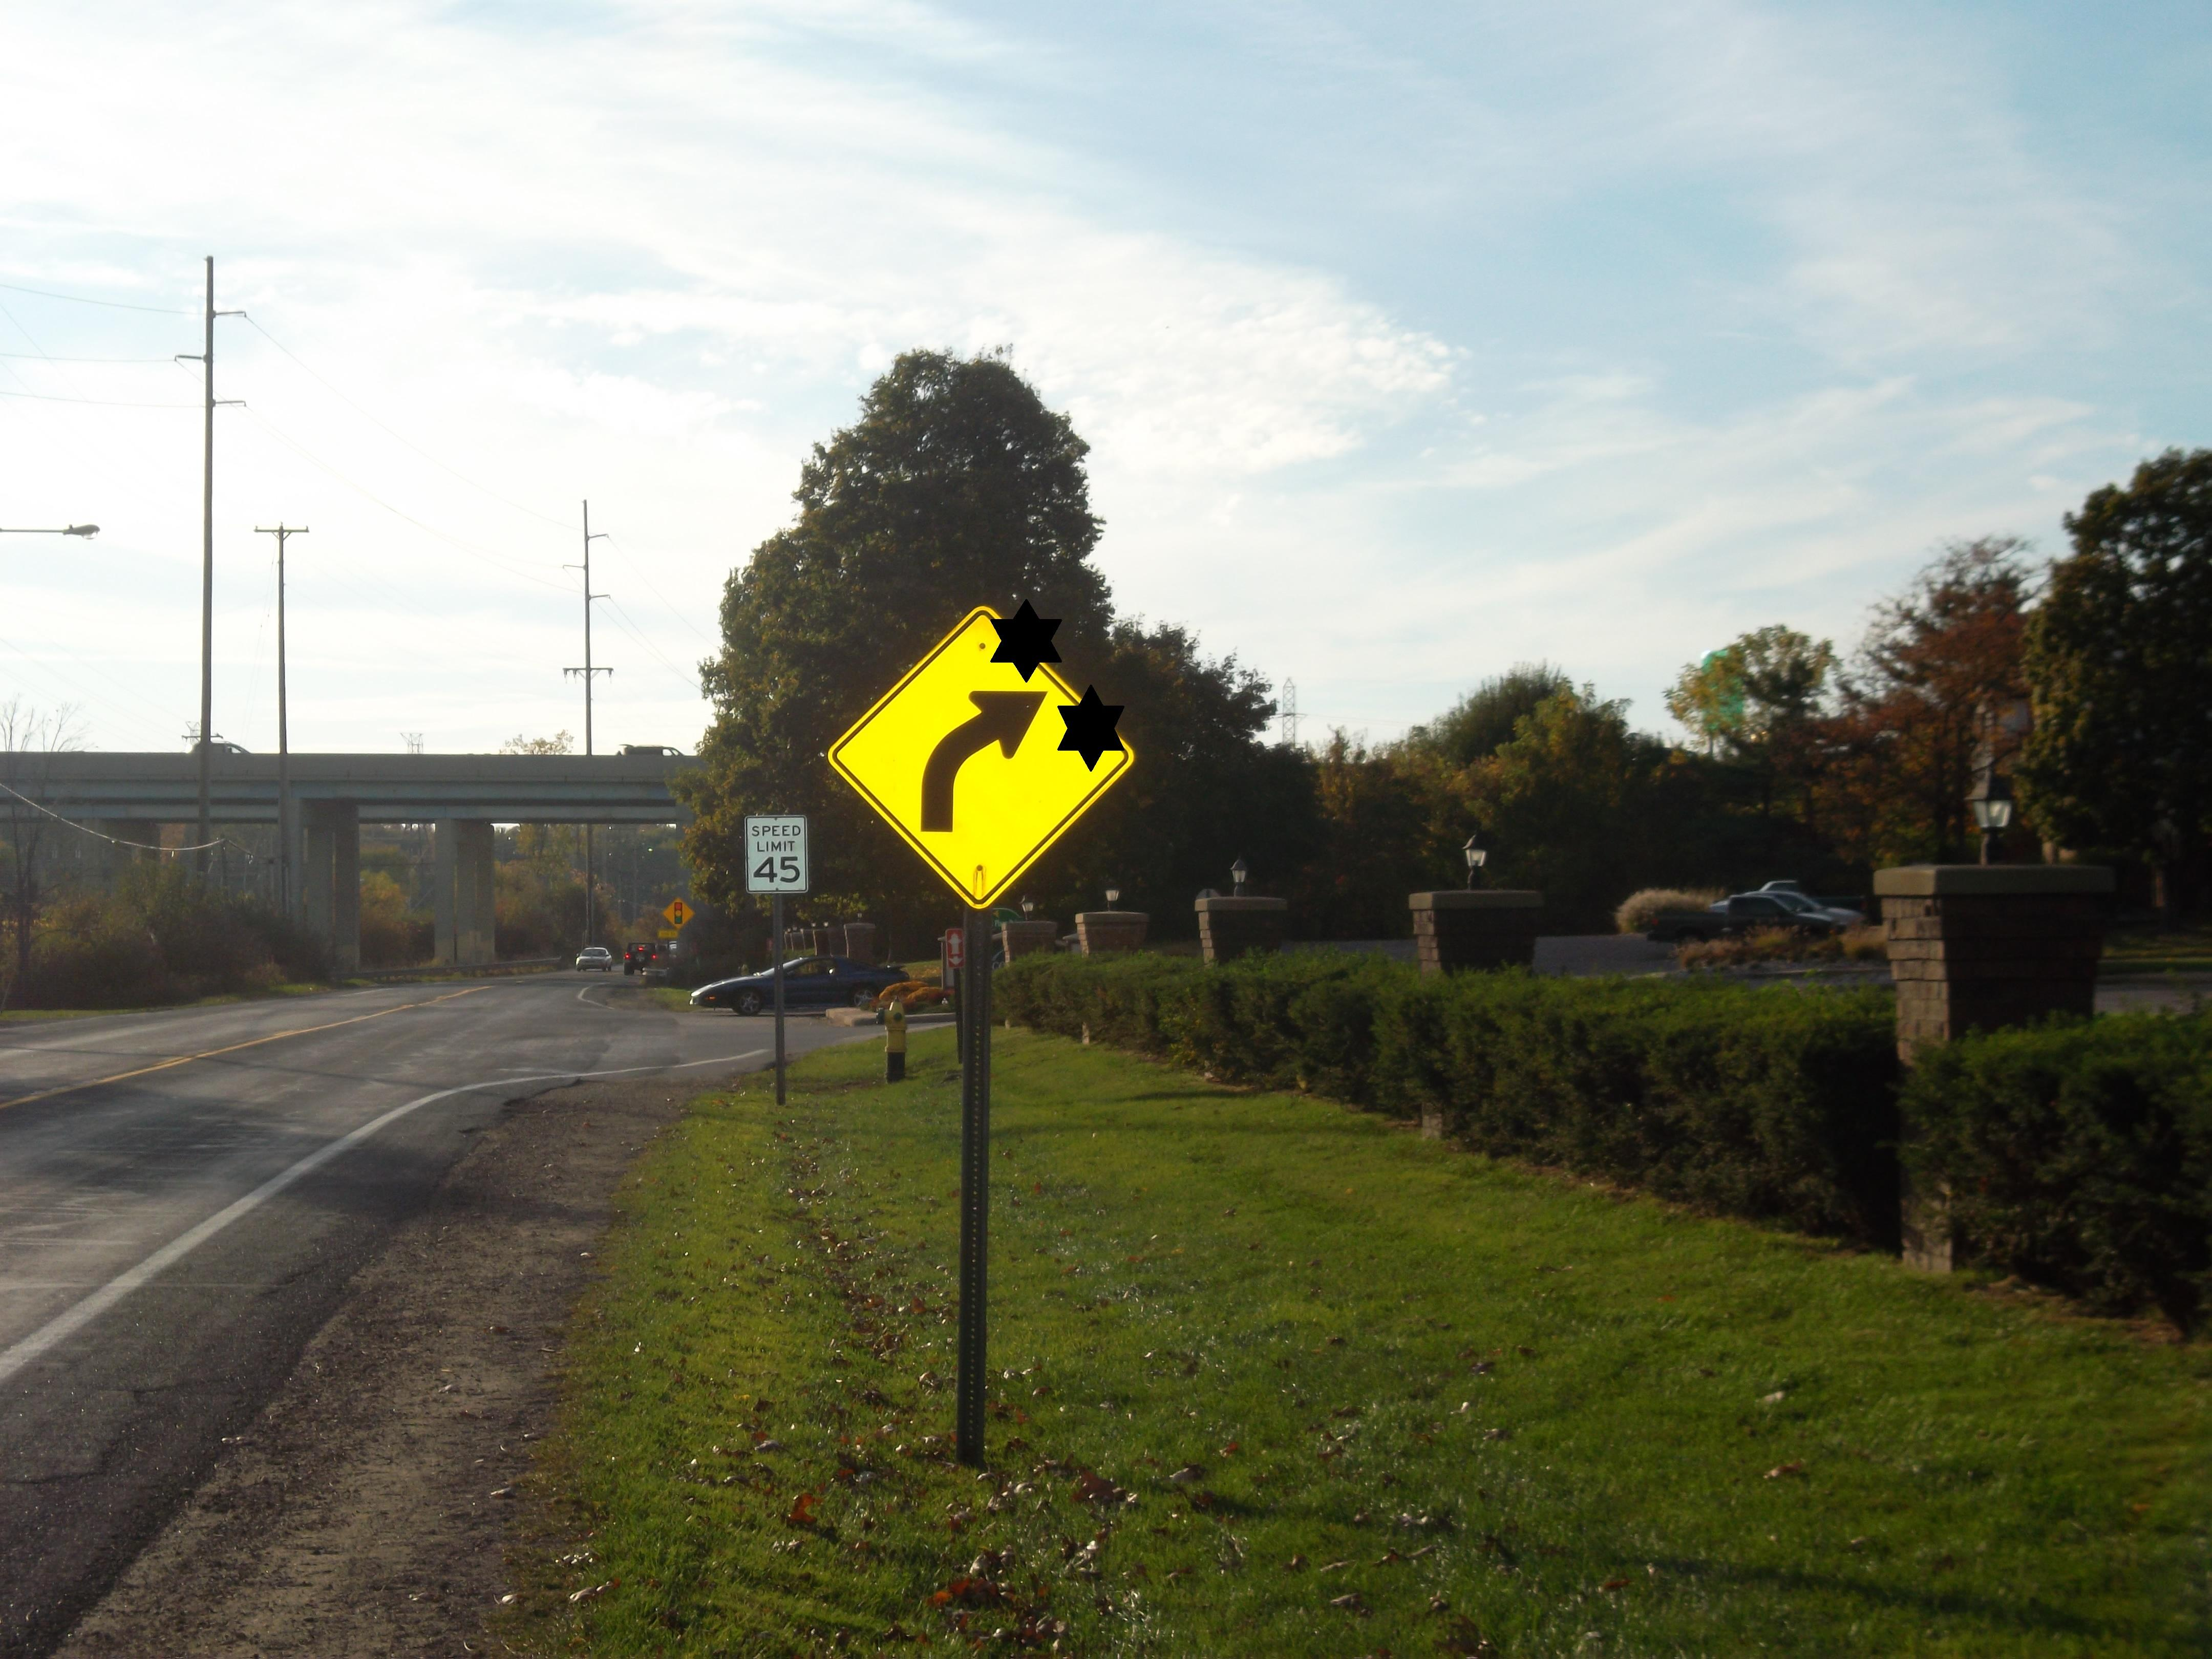regulatory: (744, 809, 813, 899)
warning: (826, 601, 1153, 913), (662, 887, 704, 936)
